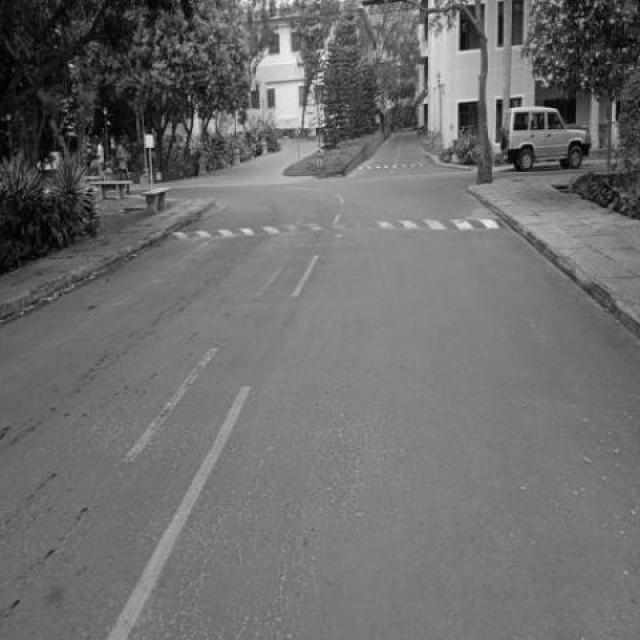Speed Bump: (170, 209, 503, 243)
